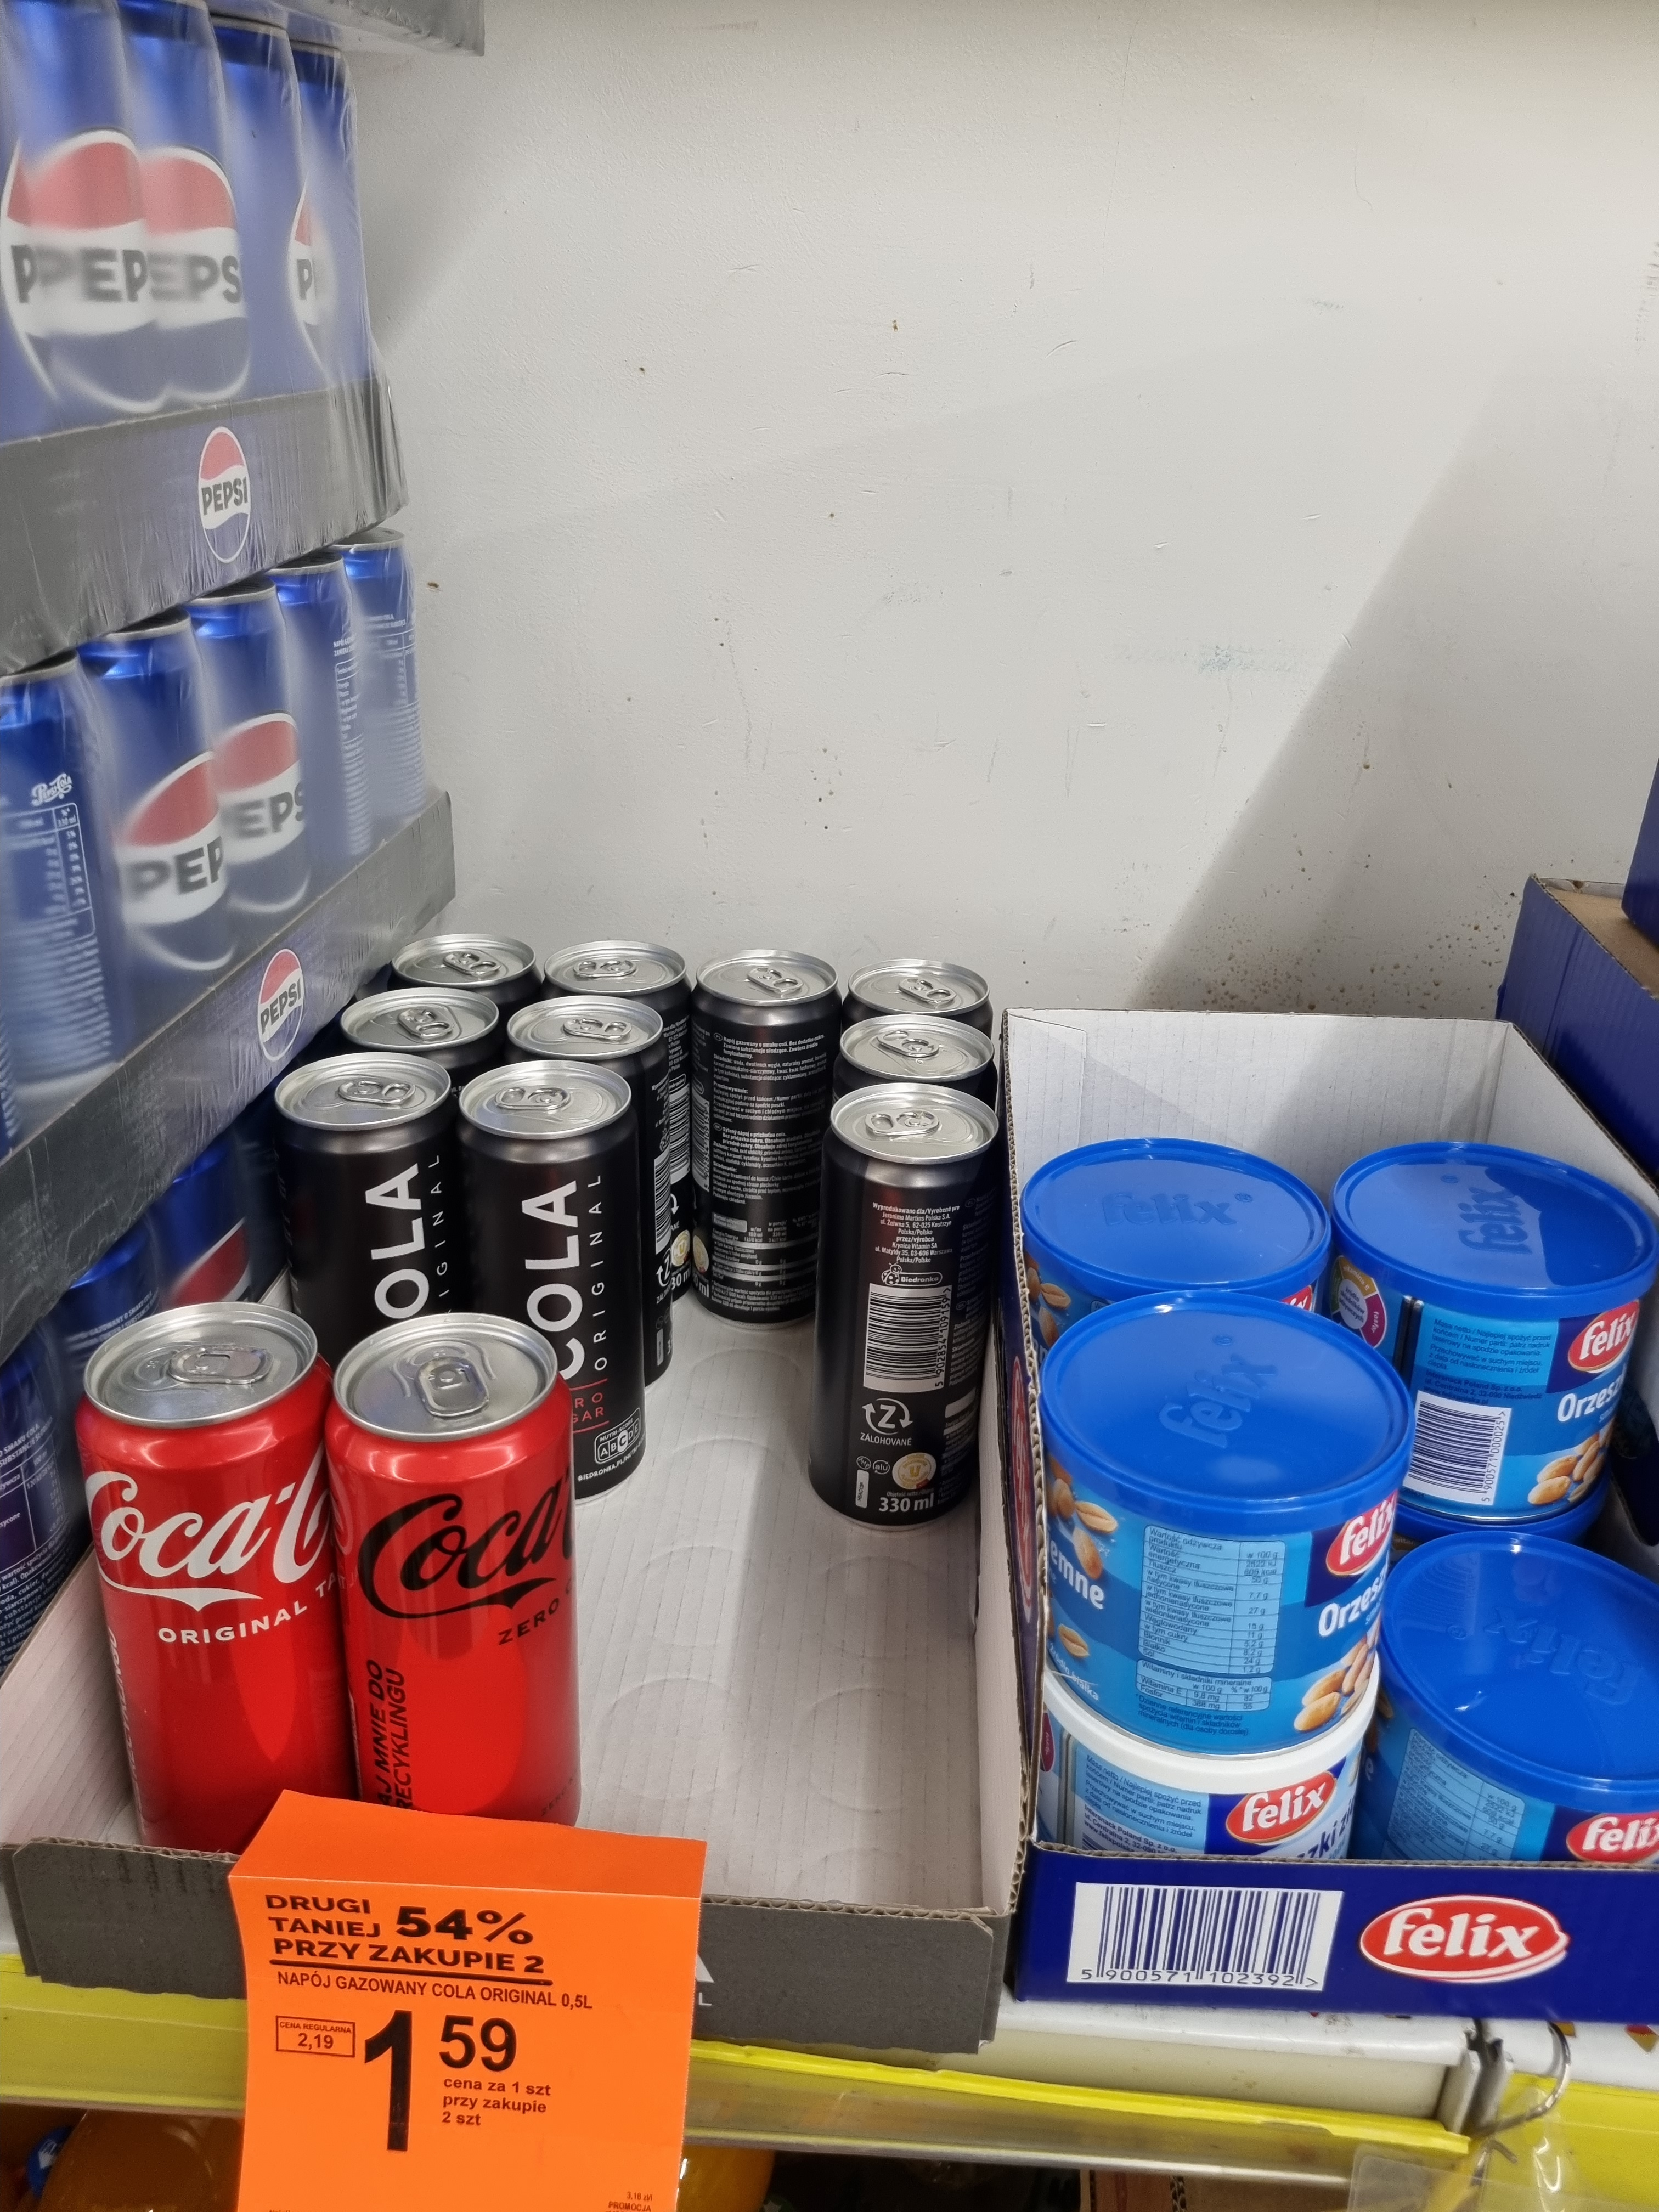Coca Cola: (71, 1296, 350, 1860), (322, 1306, 589, 1846)
